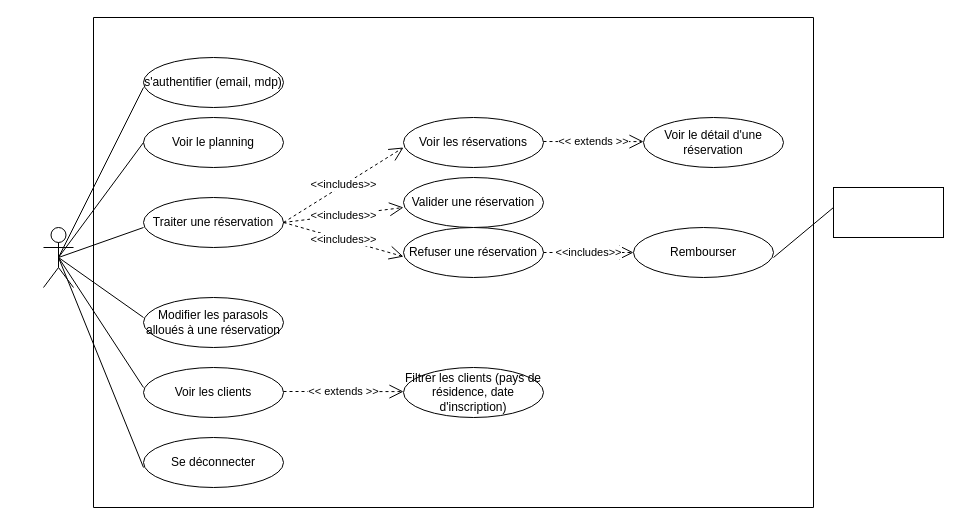
The diagram is 961 pixels wide and 525 high, and some of its shapes have lost their labels. The shapes that lost their labels are listed below. From the top down, each one's centre as x and y in pixels, then its label:
At (888,212): "Paypal".
At (58,257): "Concessionaire".
